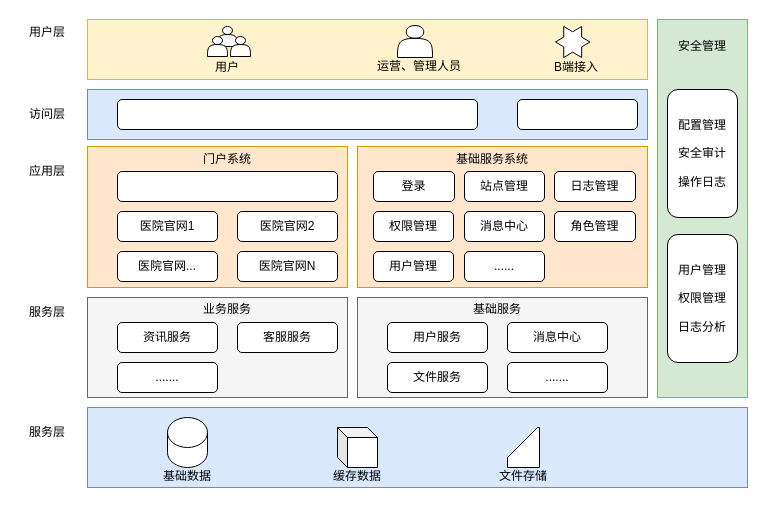
The diagram is 765 pixels wide and 508 high, and some of its shapes have lost their labels. The shapes that lost their labels are listed below. From the top down, each one's centre as x and y in pixels, then its label:
[297,114]: web浏览器
[577,114]: 服务调用
[227,186]: 集团官网
